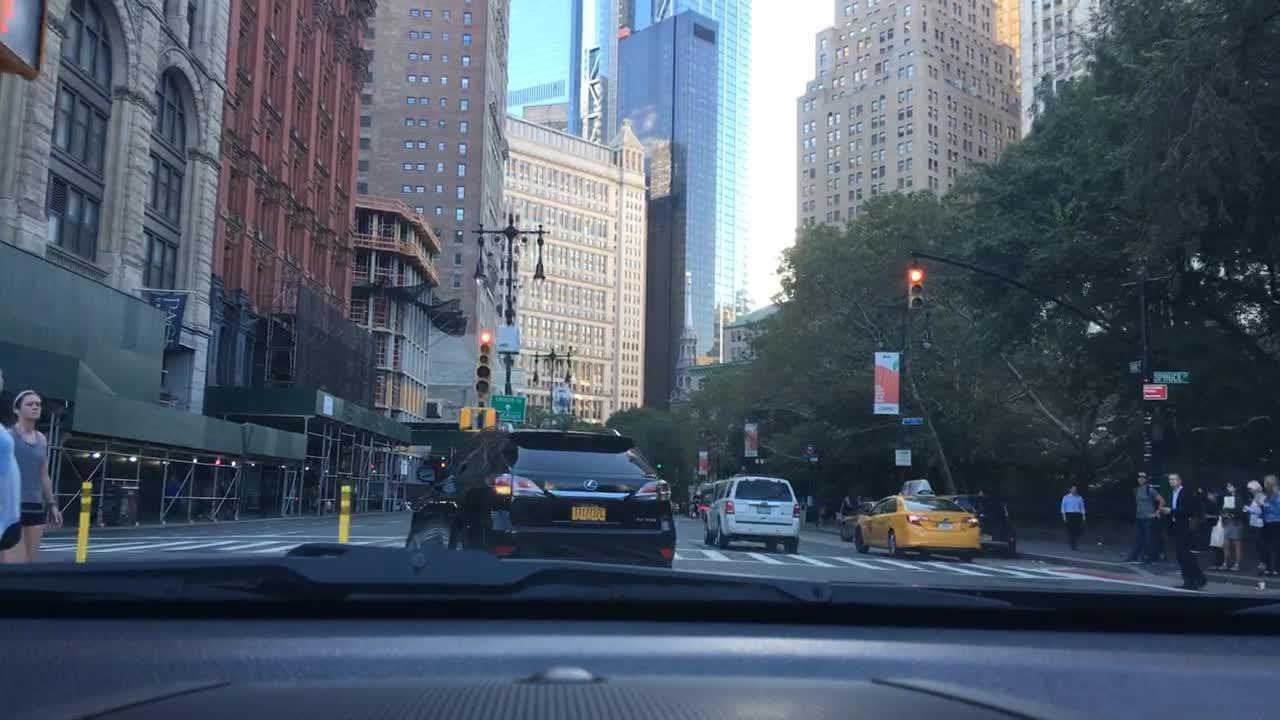lexus: (583, 478, 603, 495)
